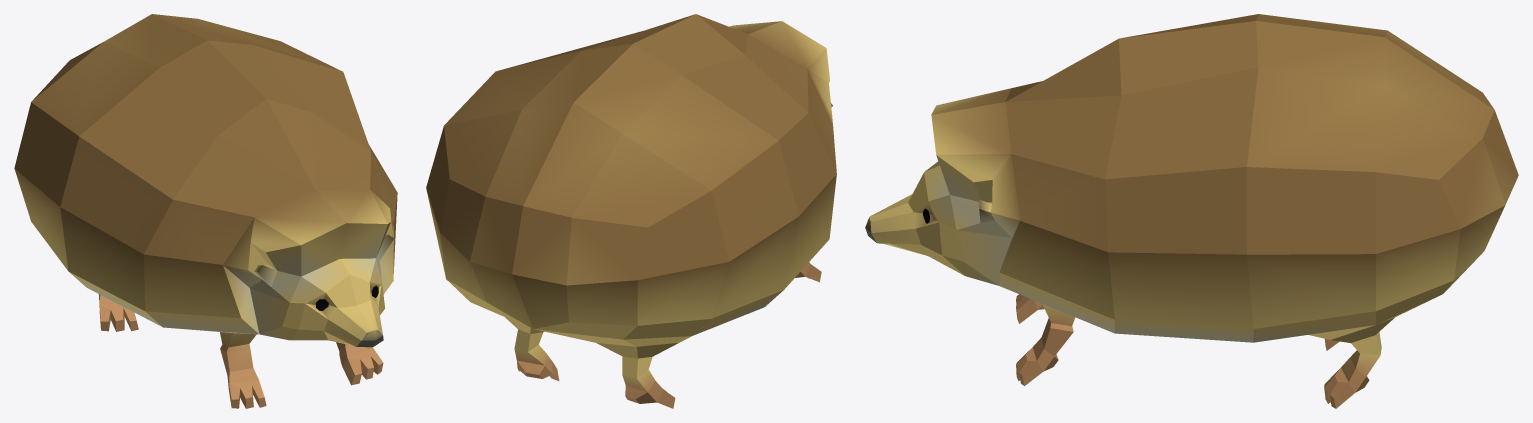
Rendered from hedgehog.glb.
The picture shows the model from 3 angles, left to right: view 1: azimuth 30°, elevation 25°; view 2: azimuth 150°, elevation 25°; view 3: azimuth 270°, elevation 25°; orthographic projection. The views are drawn at different scales.
Visible parts, largest first — view 1: Cube; view 2: Cube; view 3: Cube.
Part boxes in pixels (x1=…): Cube: x1=14, y1=14, x2=397, y2=408; Cube: x1=426, y1=14, x2=836, y2=408; Cube: x1=865, y1=14, x2=1518, y2=408.
Bounding box in the file's own units: 4.1 × 3.92 × 6.59.
